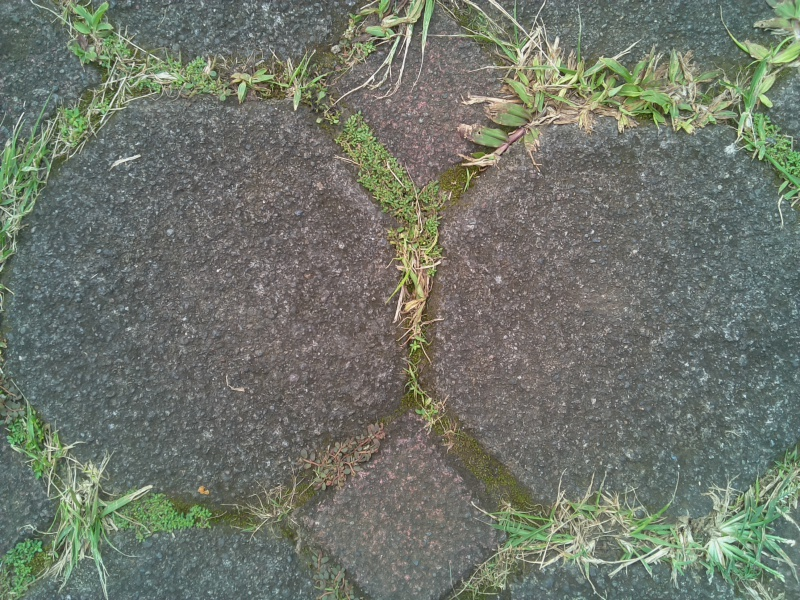Weed: (529, 29, 717, 164), (336, 109, 439, 239), (702, 465, 796, 597), (496, 480, 610, 575), (474, 56, 557, 180), (603, 473, 679, 587), (55, 468, 138, 568), (395, 217, 446, 360), (131, 47, 224, 117), (307, 418, 385, 497), (112, 487, 215, 545), (725, 68, 782, 162), (8, 402, 56, 472), (280, 50, 330, 114), (64, 3, 119, 47), (53, 99, 94, 152), (231, 58, 276, 102), (415, 391, 456, 437)
